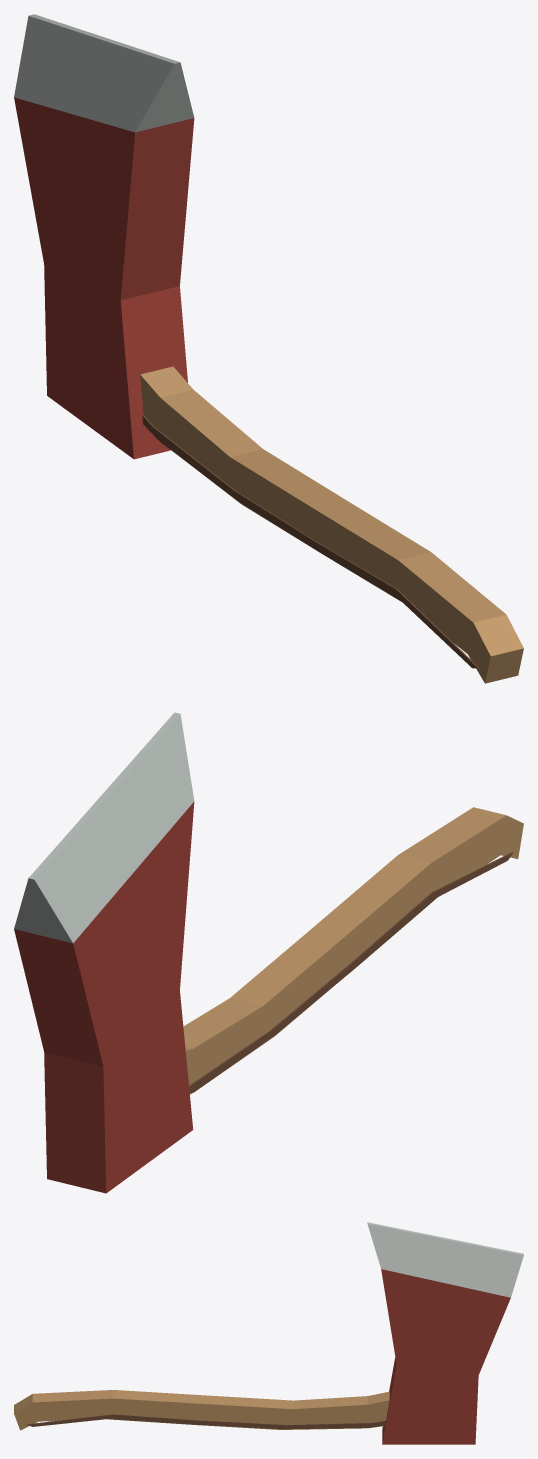
File: axe.glb
3 renders of one model, top to bottom at view 1: azimuth 30°, elevation 25°; view 2: azimuth 150°, elevation 25°; view 3: azimuth 270°, elevation 25°, orthographic. The views are drawn at different scales.
Visible parts, largest first — view 1: Painted_axe_head_3, Curved_wood_handle_0, Steel_cutting_edge_4, Handle_facet_1; view 2: Painted_axe_head_3, Curved_wood_handle_0, Steel_cutting_edge_4, Handle_facet_1; view 3: Painted_axe_head_3, Curved_wood_handle_0, Steel_cutting_edge_4, Handle_facet_2.
Part boxes in pixels (left/top/right/bottom): Painted_axe_head_3: left=14, top=97, right=194, bottom=459; Curved_wood_handle_0: left=140, top=366, right=523, bottom=683; Steel_cutting_edge_4: left=14, top=14, right=194, bottom=132; Handle_facet_1: left=142, top=415, right=478, bottom=668; Painted_axe_head_3: left=14, top=801, right=194, bottom=1193; Curved_wood_handle_0: left=183, top=807, right=523, bottom=1094; Steel_cutting_edge_4: left=14, top=712, right=194, bottom=943; Handle_facet_1: left=189, top=852, right=513, bottom=1093; Painted_axe_head_3: left=381, top=1269, right=510, bottom=1444; Curved_wood_handle_0: left=14, top=1390, right=389, bottom=1430; Steel_cutting_edge_4: left=367, top=1222, right=523, bottom=1297; Handle_facet_2: left=26, top=1414, right=385, bottom=1429.
Bounding box in the file's own units: 0.059 × 0.3845 × 0.821.
